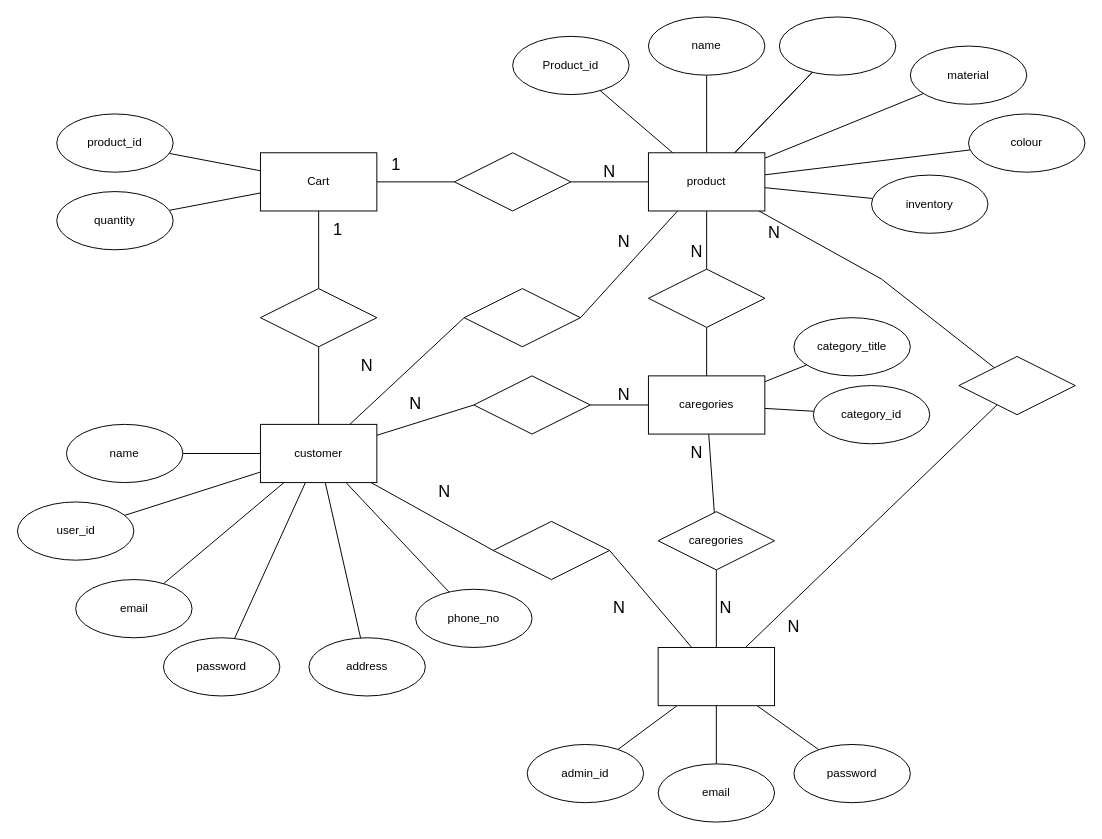
This 1102x839 diagram has some shape labels left out. The shapes that lost their labels are listed below. From the top down, each one's centre as x and y in pixels, then its label:
At point (837, 45): "price".
At point (512, 181): "contains".
At point (318, 317): "filled_by".
At point (522, 317): "buy".
At point (706, 297): "have".
At point (531, 404): "select".
At point (1016, 385): "managed_by".
At point (551, 550): "viewed_by".
At point (716, 676): "admins".
